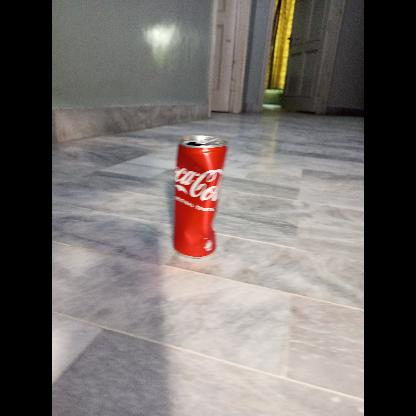Dent_Can: (175, 158, 223, 189), (182, 205, 216, 246)
Lid_Open: (186, 127, 220, 150)
Tin_Can: (170, 126, 228, 258)
